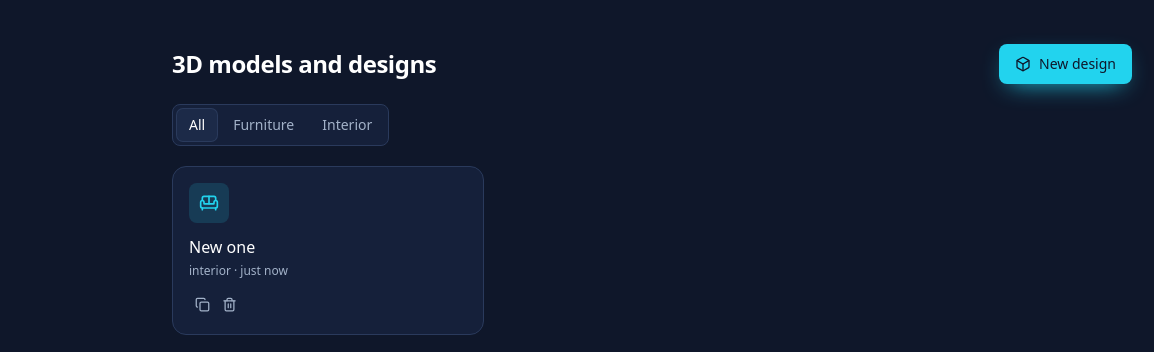
Home and Designs point to the room designer › opens the saved room design directly
Click the text "New one" at [222, 247], box [189,236,255,258]
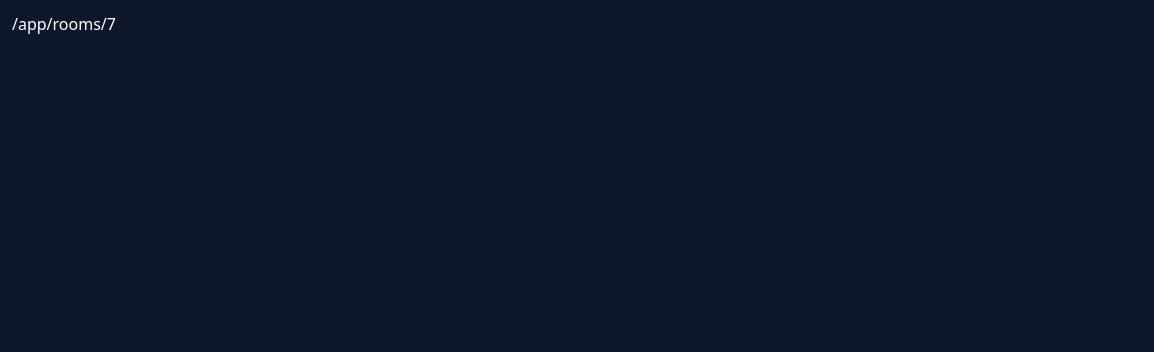
Check: the text with test id "where" reads "/app/rooms/7", box [12,13,116,35]
